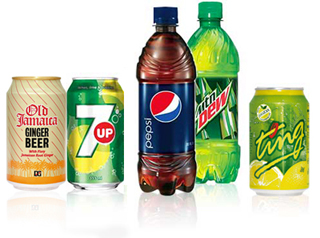pepsi: (150, 89, 180, 122)
